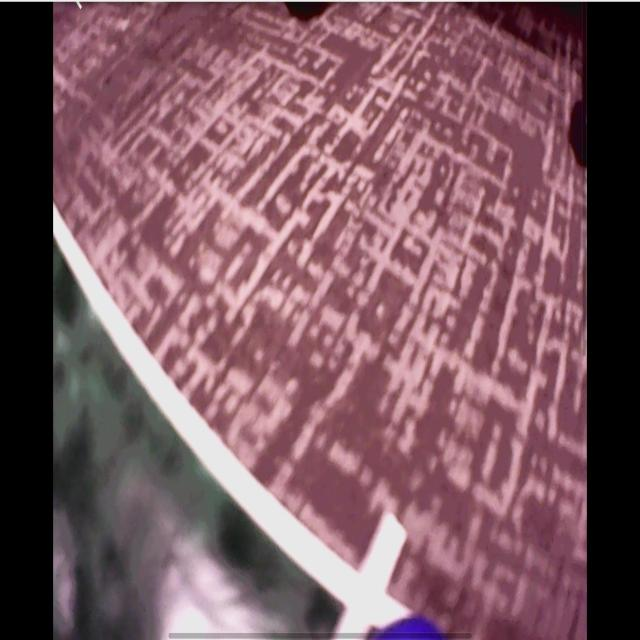ball: (378, 616, 447, 640)
